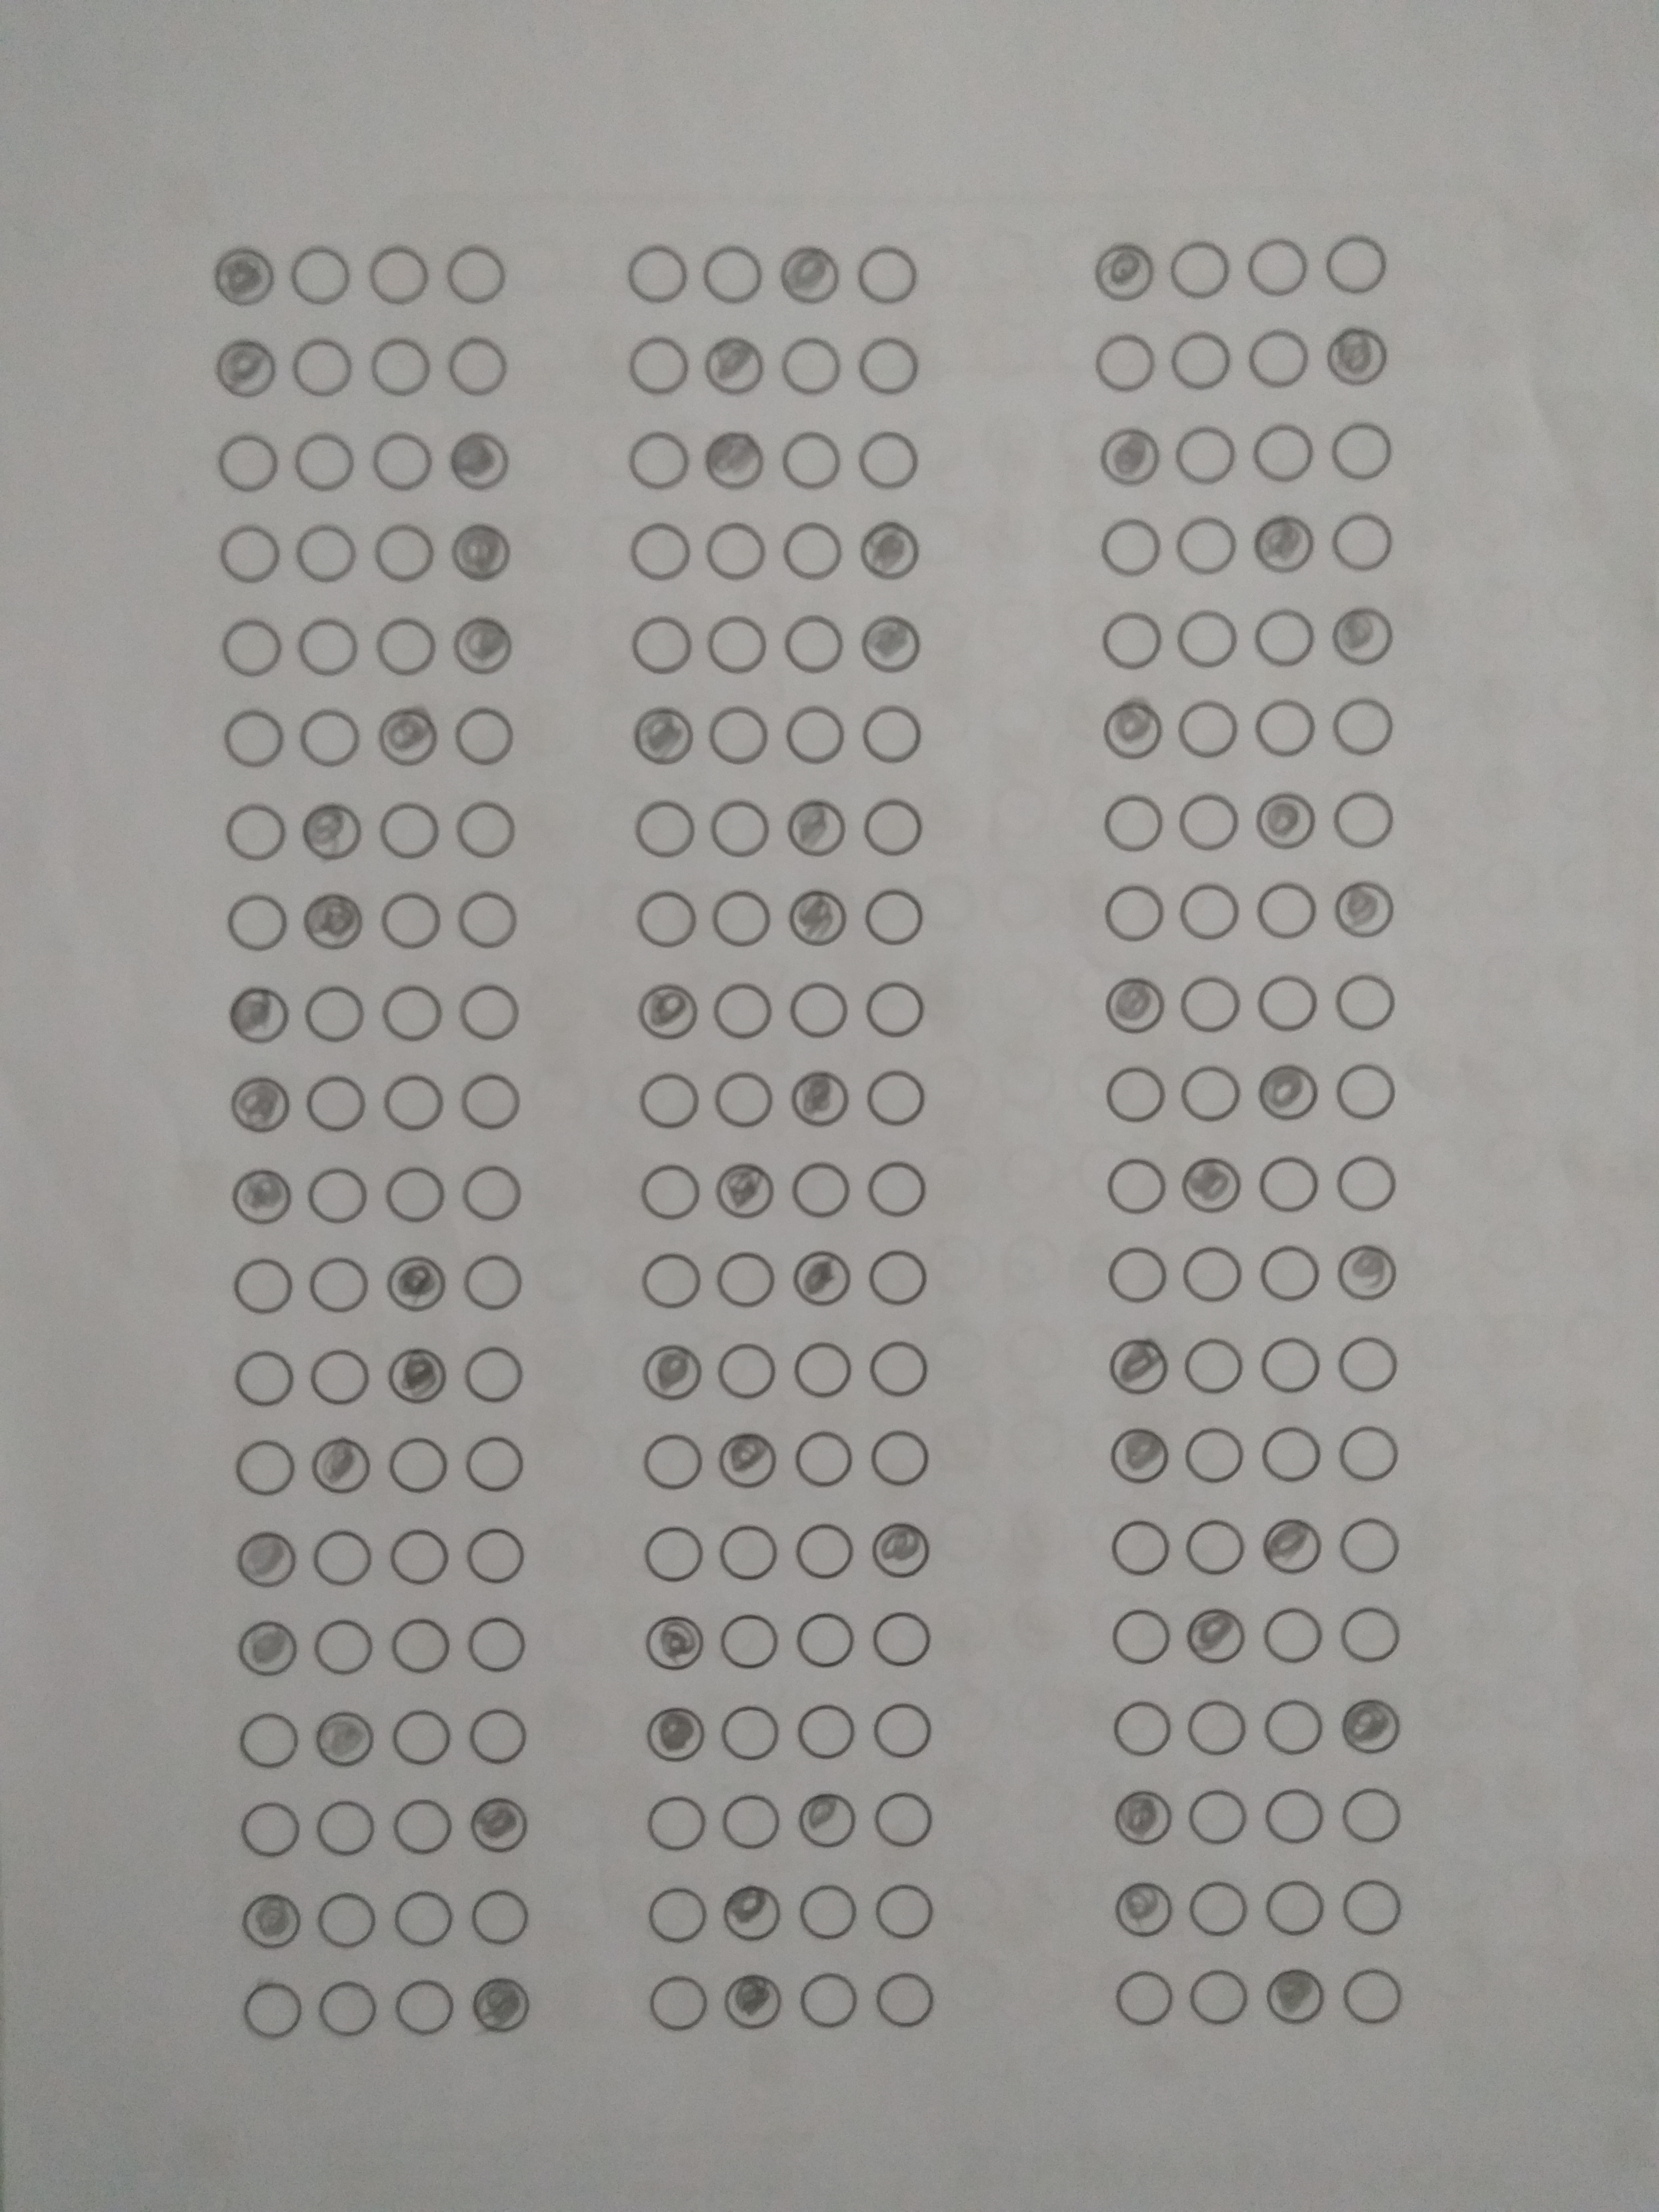not-c: (706, 519, 770, 580), (779, 428, 843, 489), (627, 430, 692, 491), (627, 333, 692, 394), (627, 242, 692, 303), (223, 707, 288, 768), (221, 617, 286, 678), (373, 523, 437, 583), (446, 244, 511, 305), (364, 244, 429, 305), (291, 336, 355, 397), (305, 1071, 369, 1132), (301, 982, 366, 1043), (225, 892, 289, 953), (223, 799, 288, 860), (239, 1799, 303, 1860), (389, 1615, 453, 1676), (310, 1526, 375, 1587), (462, 1432, 526, 1493), (232, 1346, 296, 1407), (718, 1792, 782, 1853), (645, 1792, 709, 1853), (873, 1968, 938, 2029), (789, 1339, 854, 1400), (714, 1521, 779, 1581), (714, 1608, 779, 1669), (870, 1700, 934, 1761), (638, 1251, 702, 1312), (866, 1338, 931, 1399), (1101, 792, 1166, 853), (633, 799, 697, 860), (1110, 1698, 1175, 1759), (1340, 1782, 1405, 1843), (1185, 1965, 1249, 2026), (1338, 1602, 1403, 1663), (1337, 1515, 1401, 1576), (1333, 970, 1398, 1031), (1178, 974, 1243, 1035), (1178, 1062, 1243, 1123), (1258, 1245, 1323, 1306), (1253, 606, 1317, 667), (1175, 608, 1239, 669), (1094, 333, 1159, 394), (861, 704, 924, 765), (784, 704, 847, 765), (708, 611, 770, 672), (782, 519, 845, 580), (857, 334, 920, 395), (298, 707, 361, 768), (298, 615, 361, 676), (295, 521, 357, 582), (448, 334, 511, 395), (310, 1254, 373, 1315), (305, 1165, 368, 1226), (460, 1068, 523, 1129), (467, 1703, 530, 1764), (387, 1526, 450, 1587), (387, 1433, 450, 1494), (462, 1343, 525, 1404), (648, 1972, 711, 2033), (317, 1975, 380, 2036), (469, 1886, 532, 1947), (317, 1888, 380, 1949), (800, 1881, 863, 1942), (716, 1339, 779, 1400), (793, 1426, 856, 1487), (641, 1430, 704, 1491), (870, 1609, 932, 1670), (793, 1609, 856, 1670), (638, 1071, 701, 1132), (864, 1160, 927, 1221), (859, 798, 922, 859), (864, 885, 927, 946), (711, 887, 774, 948), (863, 979, 925, 1040), (1108, 1606, 1171, 1667), (1262, 1696, 1324, 1757), (1185, 1696, 1248, 1757), (1182, 1242, 1244, 1303), (1331, 789, 1394, 850), (1335, 1151, 1398, 1212), (1258, 1151, 1321, 1212), (1105, 1155, 1168, 1216), (1331, 697, 1394, 758), (1324, 233, 1387, 294), (1168, 331, 1230, 392), (289, 244, 354, 303), (856, 430, 920, 489), (781, 336, 845, 395), (702, 242, 767, 301), (375, 615, 439, 674), (293, 430, 357, 489), (216, 434, 281, 493), (369, 336, 434, 395), (383, 1165, 448, 1224), (458, 982, 523, 1042), (380, 982, 444, 1042), (457, 890, 521, 949), (380, 890, 444, 949), (455, 799, 519, 859), (378, 799, 443, 859), (389, 1707, 453, 1766), (237, 1709, 301, 1768), (307, 1346, 371, 1406), (392, 1975, 457, 2034), (870, 1789, 934, 1848), (875, 1879, 939, 1939), (645, 1885, 709, 1944), (870, 1428, 934, 1487), (643, 1524, 708, 1583), (711, 981, 775, 1040), (864, 1068, 929, 1127), (711, 1069, 775, 1129), (791, 1160, 856, 1219), (864, 1249, 929, 1308), (1100, 883, 1164, 942), (708, 799, 772, 859), (636, 888, 701, 948), (1262, 1785, 1326, 1844), (1340, 1965, 1405, 2024), (1110, 1968, 1175, 2027), (1108, 1519, 1173, 1578), (1260, 1604, 1324, 1663), (1105, 1244, 1169, 1303), (1335, 1332, 1399, 1392), (1258, 1336, 1323, 1395), (1182, 1338, 1246, 1397), (1337, 1423, 1401, 1482), (1182, 1425, 1246, 1484), (1183, 1521, 1248, 1580), (1253, 881, 1317, 941), (1103, 1064, 1168, 1123), (1249, 421, 1314, 481), (1173, 425, 1237, 484), (1169, 240, 1234, 300), (1101, 611, 1164, 671), (708, 705, 770, 765), (782, 615, 845, 674), (633, 613, 695, 672), (629, 521, 692, 580), (857, 244, 920, 303), (453, 707, 516, 766), (218, 523, 281, 582), (369, 430, 432, 489), (462, 1252, 525, 1312), (232, 1256, 295, 1315), (462, 1163, 525, 1223), (383, 1071, 446, 1130), (314, 1797, 376, 1857), (465, 1615, 528, 1674), (312, 1616, 375, 1676), (464, 1526, 526, 1585), (234, 1437, 296, 1496), (796, 1968, 859, 2027), (240, 1980, 303, 2040), (392, 1886, 455, 1946), (392, 1797, 455, 1857), (796, 1702, 859, 1761), (720, 1702, 782, 1761), (793, 1517, 856, 1576), (640, 1162, 702, 1221), (714, 1252, 777, 1312), (788, 981, 850, 1040), (1185, 1789, 1248, 1848), (1342, 1878, 1405, 1937), (1263, 1879, 1326, 1939), (1185, 1879, 1248, 1939), (1260, 1423, 1323, 1482), (1178, 792, 1241, 852), (1178, 881, 1241, 941), (1256, 972, 1319, 1031), (1335, 1064, 1398, 1123), (1330, 420, 1392, 479), (1330, 512, 1392, 571), (1175, 514, 1237, 573), (1100, 516, 1162, 575), (1255, 698, 1317, 758), (1178, 698, 1241, 758), (1248, 237, 1310, 296), (1248, 329, 1310, 388)
taken-c: (209, 242, 275, 308), (213, 336, 279, 401), (444, 428, 511, 493), (450, 611, 516, 676), (856, 517, 922, 582), (1330, 603, 1394, 667), (1091, 240, 1157, 303), (1323, 326, 1389, 388), (232, 1527, 298, 1590), (1098, 700, 1166, 761), (636, 981, 701, 1043), (701, 333, 765, 395), (1253, 512, 1316, 577), (235, 1615, 298, 1679), (643, 1702, 708, 1764), (300, 890, 366, 951), (227, 1075, 293, 1136), (230, 1165, 296, 1226), (714, 1428, 781, 1489), (1338, 1696, 1405, 1757), (378, 705, 441, 768), (714, 1160, 777, 1223), (784, 796, 847, 859), (643, 1613, 706, 1676), (796, 1791, 859, 1853), (1108, 1334, 1171, 1397), (779, 242, 840, 307), (870, 1521, 934, 1581), (227, 986, 293, 1045), (631, 707, 697, 766), (239, 1892, 305, 1951), (450, 523, 512, 583), (789, 1068, 850, 1130), (1100, 427, 1162, 488), (1333, 878, 1396, 939), (1103, 975, 1166, 1036), (1180, 1153, 1243, 1214), (791, 1245, 852, 1308), (721, 1881, 782, 1944), (721, 1970, 784, 2031), (1108, 1423, 1171, 1484), (1115, 1785, 1176, 1848), (1267, 1965, 1330, 2026), (784, 888, 849, 948), (857, 615, 922, 674), (312, 1707, 376, 1766), (307, 1435, 371, 1494), (382, 1254, 448, 1312), (301, 801, 362, 862), (704, 428, 765, 489), (1256, 1062, 1319, 1122), (1262, 1517, 1324, 1576), (1114, 1881, 1176, 1940), (1335, 1244, 1399, 1301), (383, 1348, 450, 1404), (1255, 791, 1316, 850), (471, 1975, 532, 2034), (1185, 1606, 1246, 1665), (465, 1796, 528, 1853), (641, 1343, 702, 1400)
